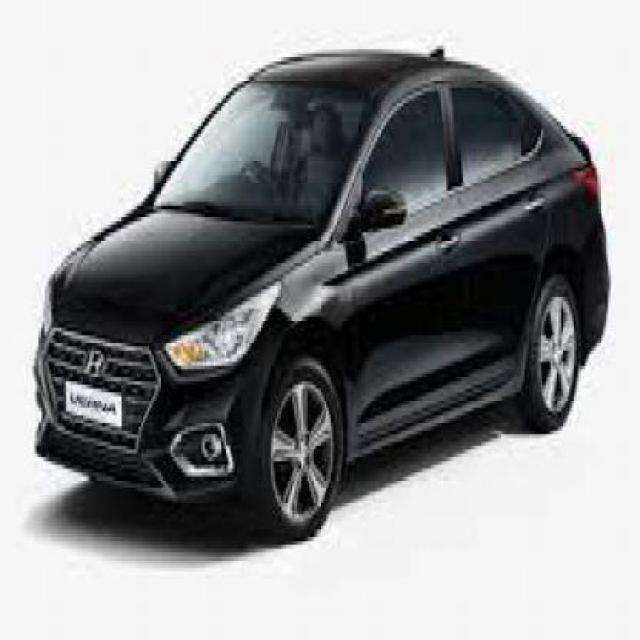vehicle: (34, 39, 623, 538)
